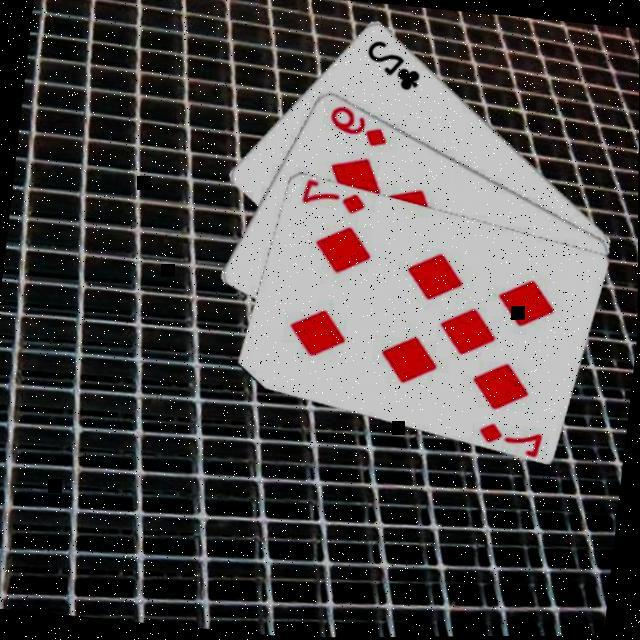2C: (360, 33, 427, 93)
7D: (298, 176, 371, 215), (474, 416, 546, 455)
9D: (325, 99, 393, 148)
